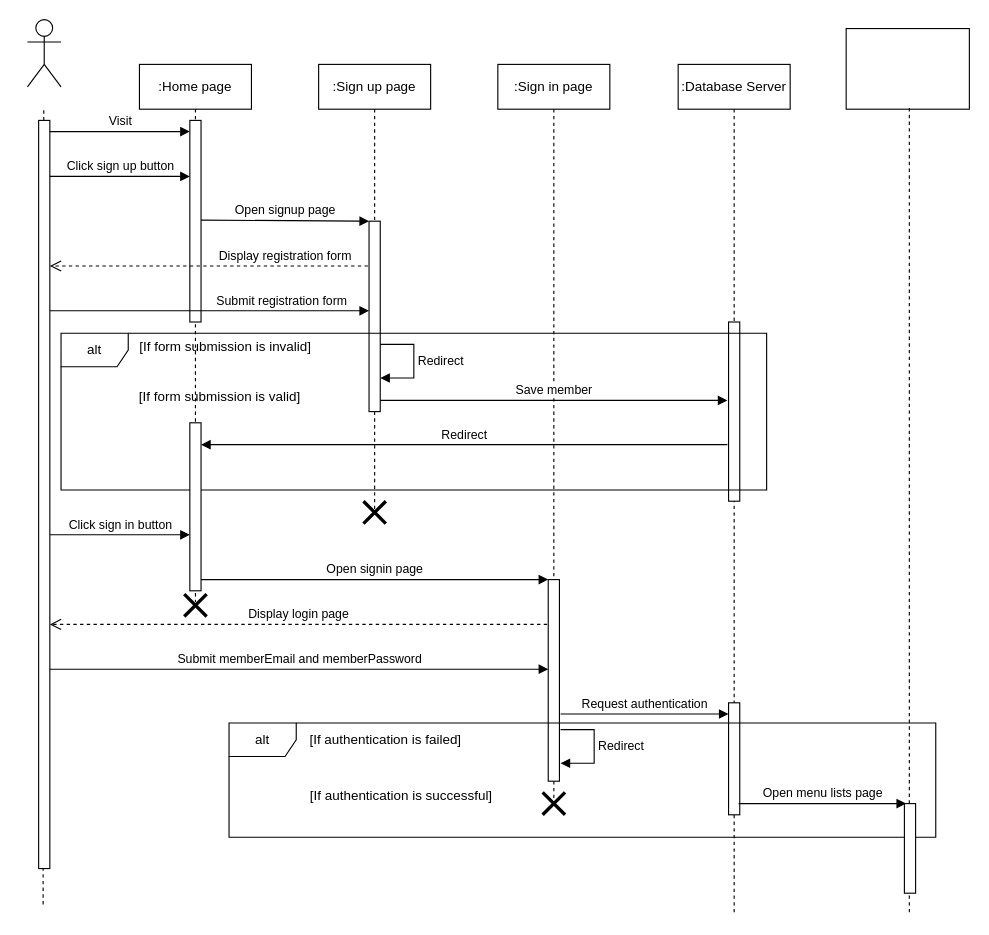
The diagram is 989 pixels wide and 935 high, and some of its shapes have lost their labels. The shapes that lost their labels are listed below. From the top down, each one's centre as x and y in pixels, then its label:
the point at 43,52: Member
the point at 907,68: <<Actor>> Inventory management system
